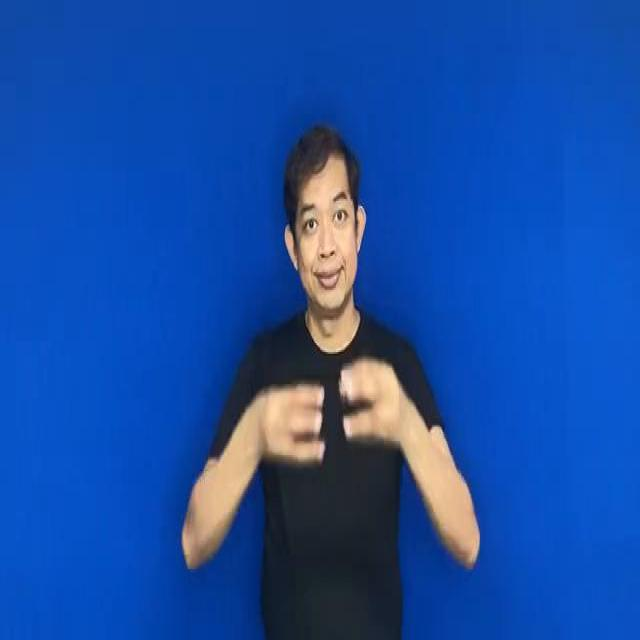egg: (225, 324, 420, 495)
